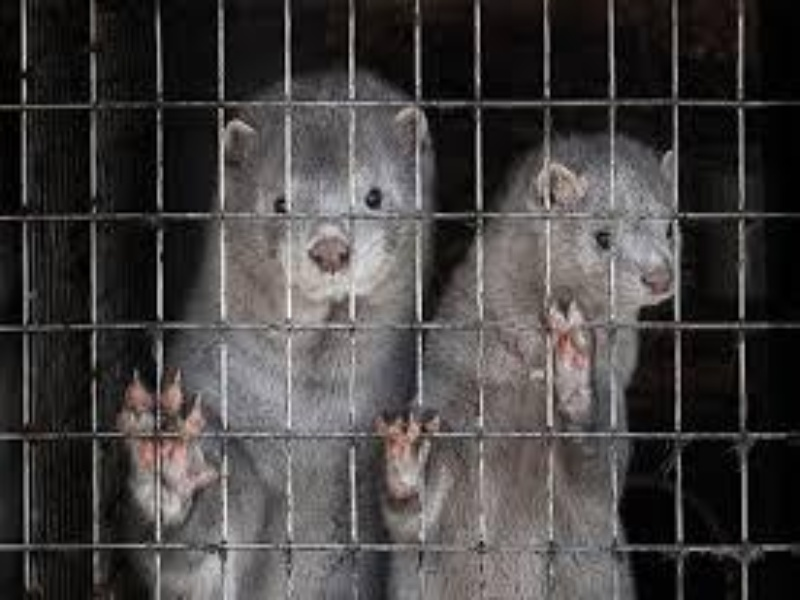minkish: (111, 56, 443, 600), (379, 128, 686, 594)
